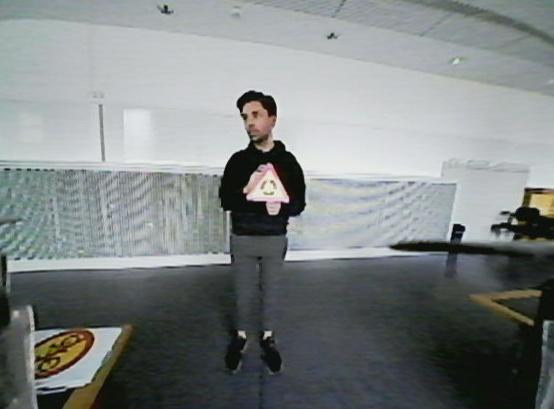roundabout_warning: (241, 162, 295, 206)
